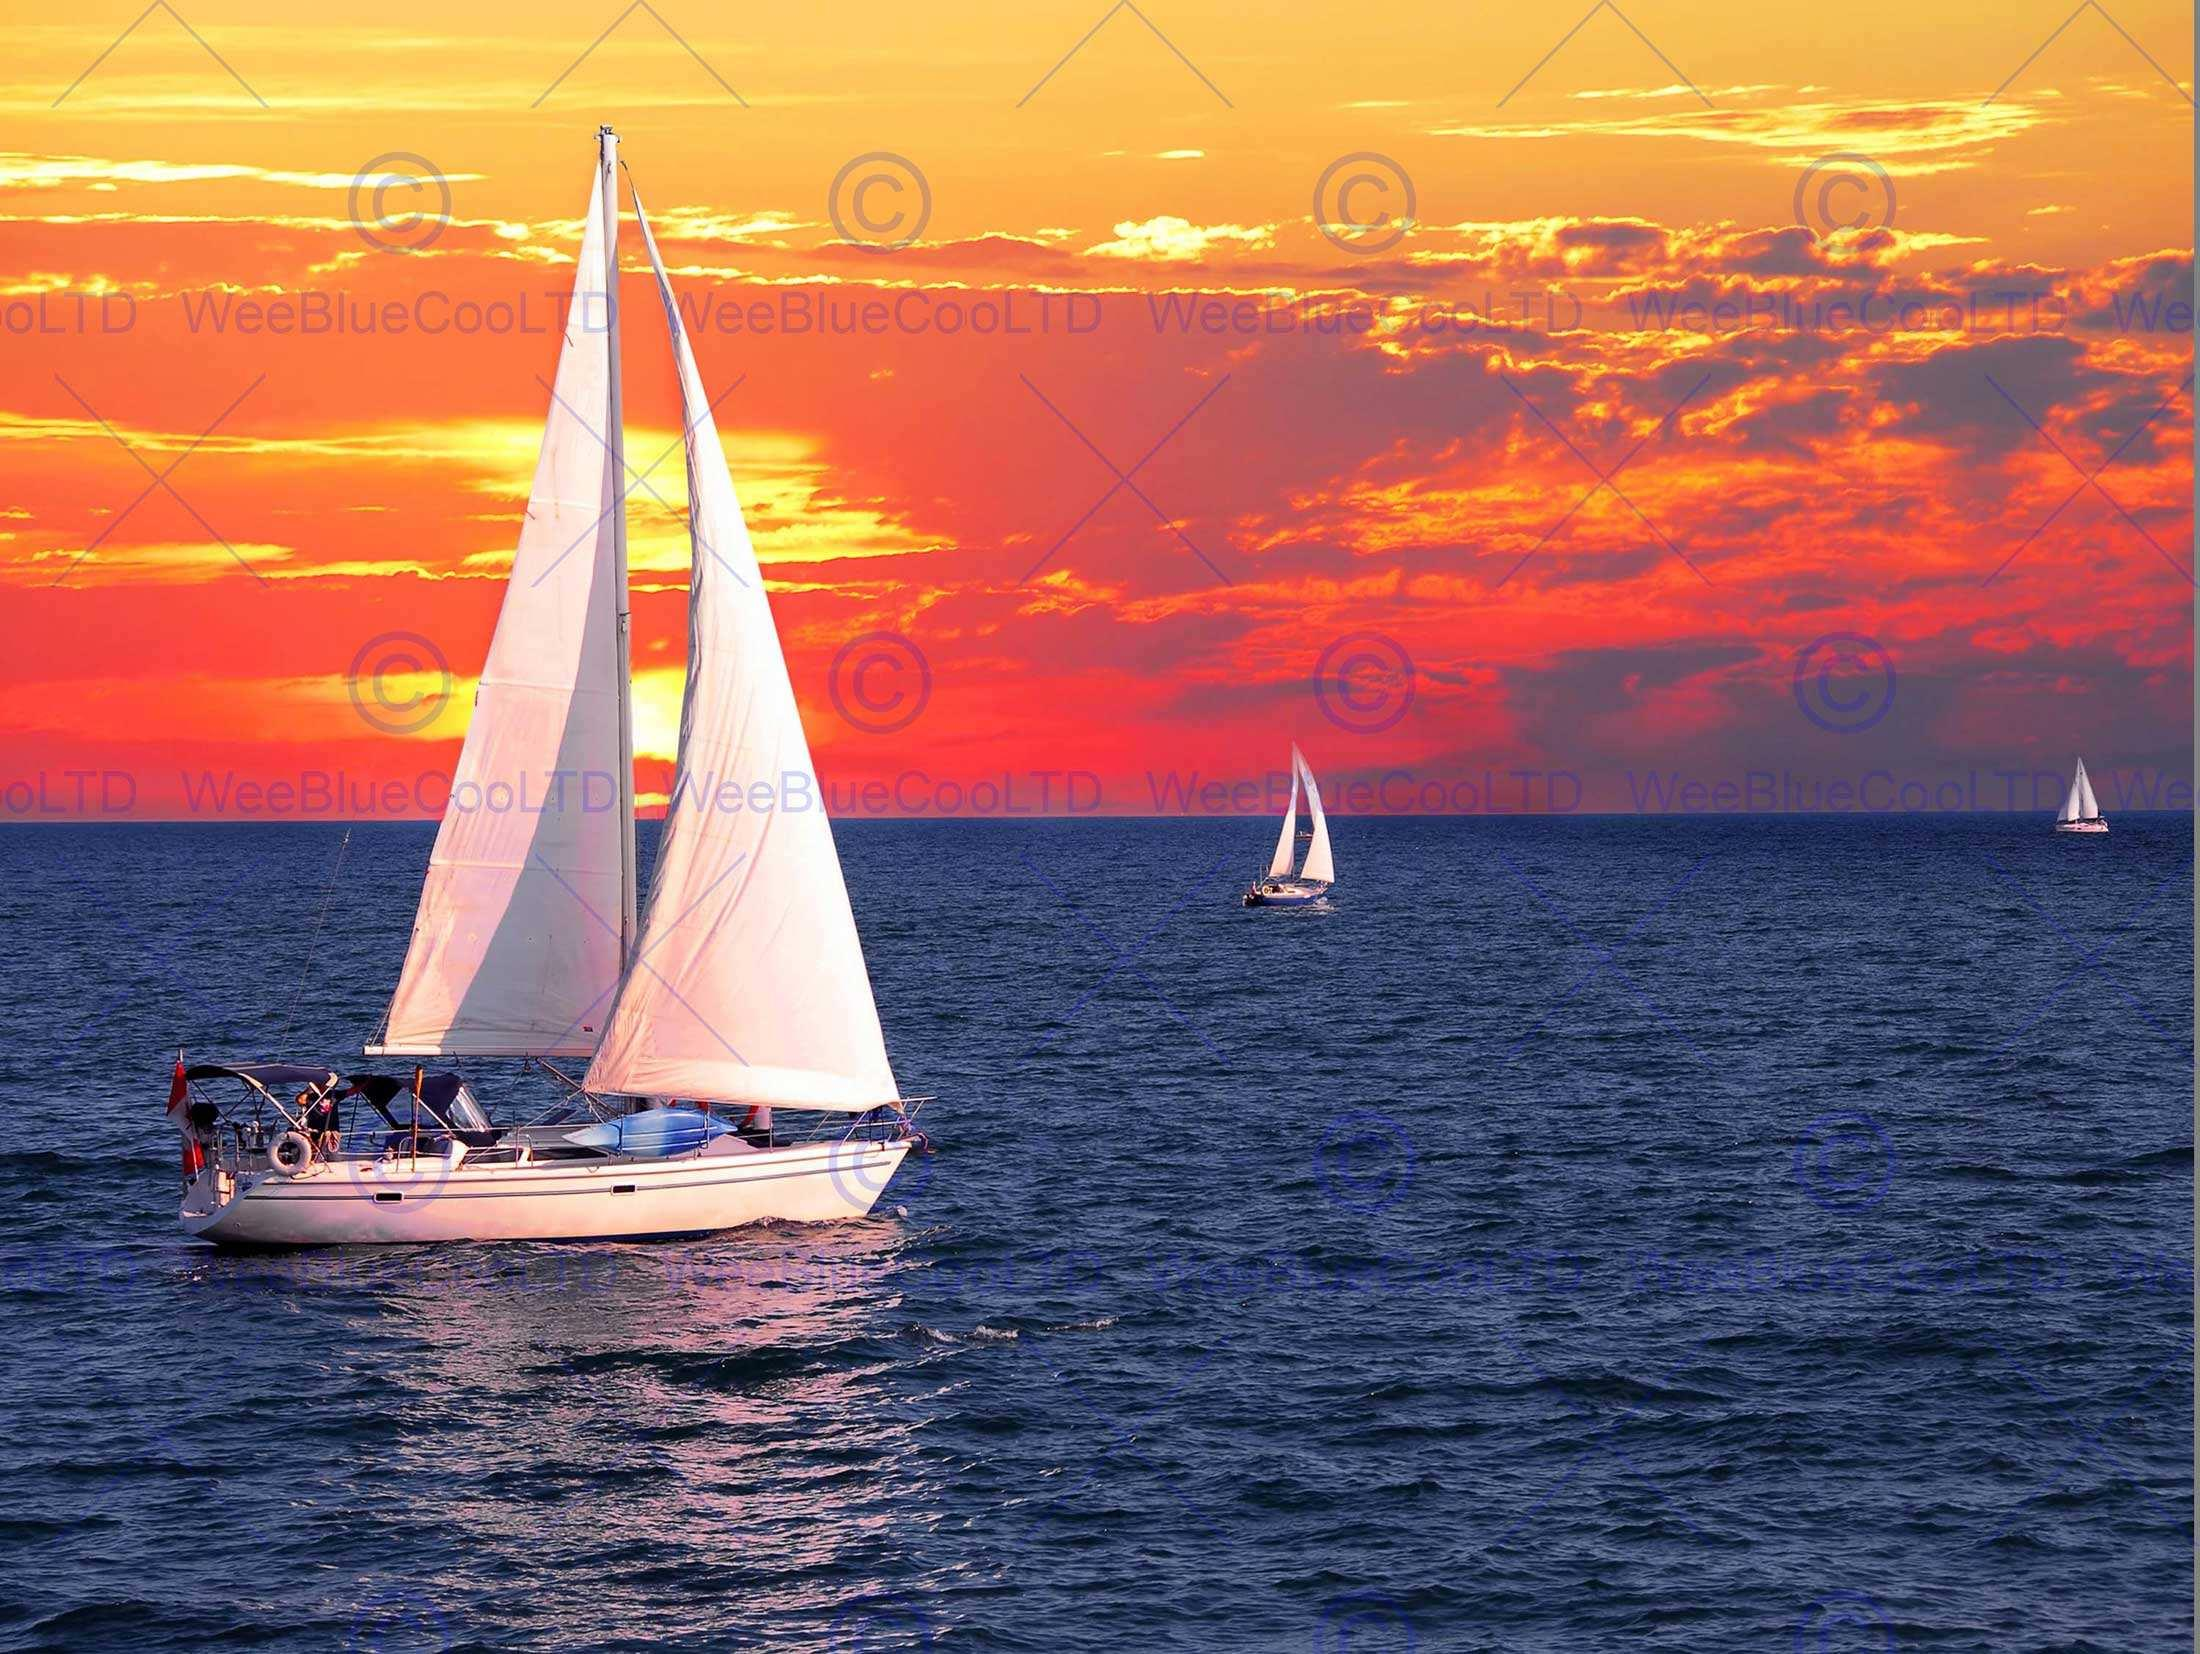fanchuan: (144, 101, 930, 1263), (1244, 735, 1359, 909), (2052, 759, 2122, 834)
